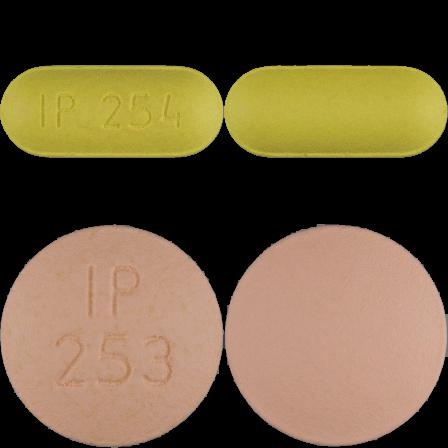68788-9874: (0, 0, 224, 224)
